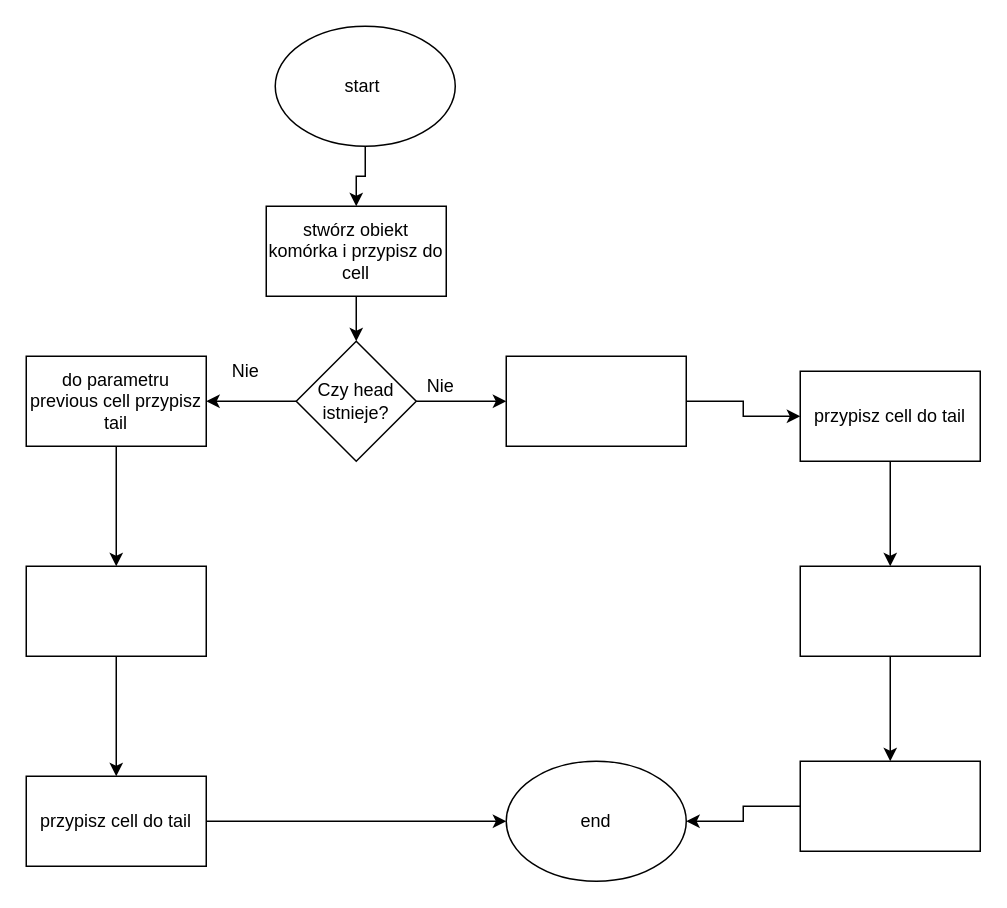
Some shapes in this 1007 by 908 pixel diagram are drawn without their labels. Each missing label, with the centre of its shape:
do parametru next dotychczasowego tail zapisz cell: (x=115, y=610)
do parametru previous przypisz tail a do next przypisz head: (x=889, y=610)
przypisz cell do head: (x=595, y=400)
